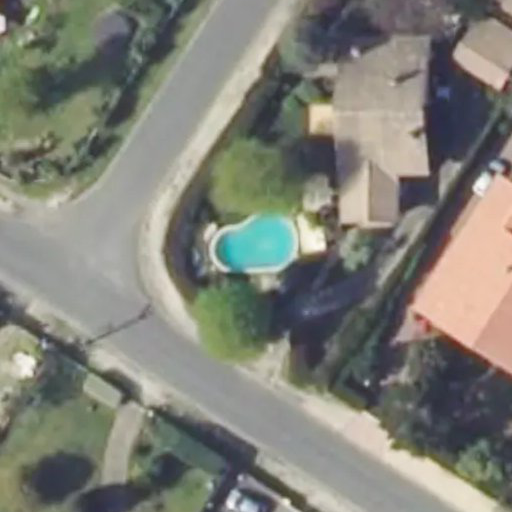pool: (206, 238, 305, 256)
